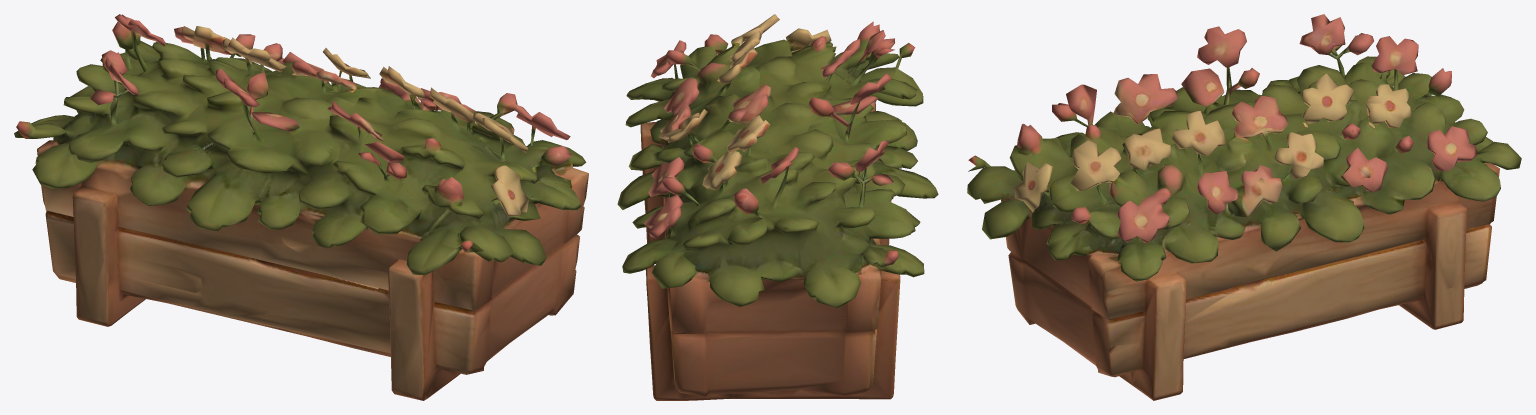
The model's file is blumenkasten_wald_a.glb.
3 renders of one model, left to right at view 1: azimuth 30°, elevation 25°; view 2: azimuth 150°, elevation 25°; view 3: azimuth 270°, elevation 25°, orthographic. The views are drawn at different scales.
Visible parts, largest first — view 1: tripo_node_24244b36-8262-4df3-b532-3a268cdc6897; view 2: tripo_node_24244b36-8262-4df3-b532-3a268cdc6897; view 3: tripo_node_24244b36-8262-4df3-b532-3a268cdc6897.
Part boxes in pixels (<box>): tripo_node_24244b36-8262-4df3-b532-3a268cdc6897: <box>14,14,588,400</box>; tripo_node_24244b36-8262-4df3-b532-3a268cdc6897: <box>617,14,938,400</box>; tripo_node_24244b36-8262-4df3-b532-3a268cdc6897: <box>967,14,1521,400</box>.
Size of the model in its own units: 0.8227 by 0.5046 by 1.02.
1 material, 1 textured.
